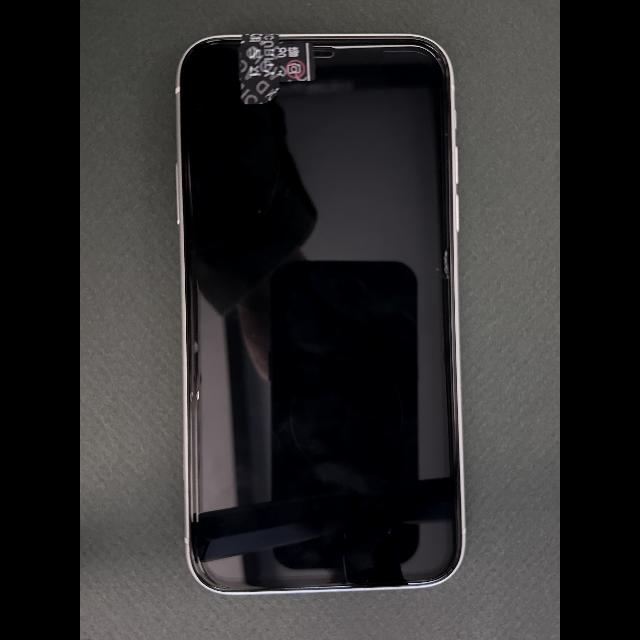phone: (175, 33, 466, 596)
sticker: (238, 34, 280, 105), (279, 43, 316, 82)
